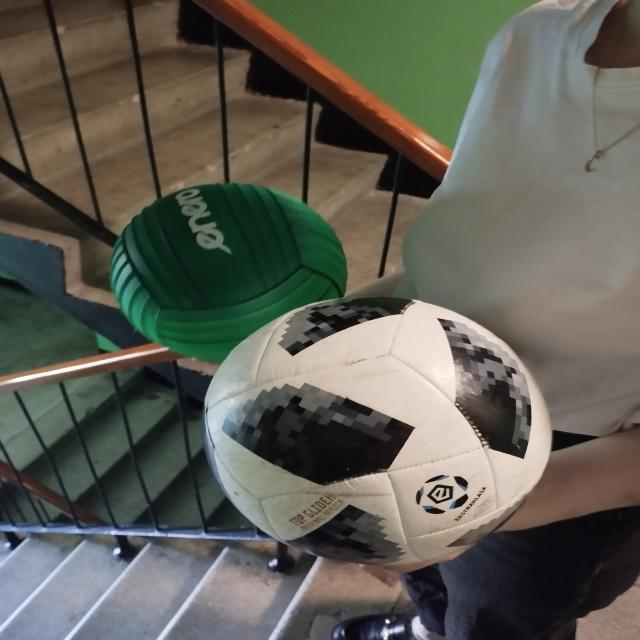nozna: (205, 296, 551, 563)
zielona: (112, 182, 349, 354)
